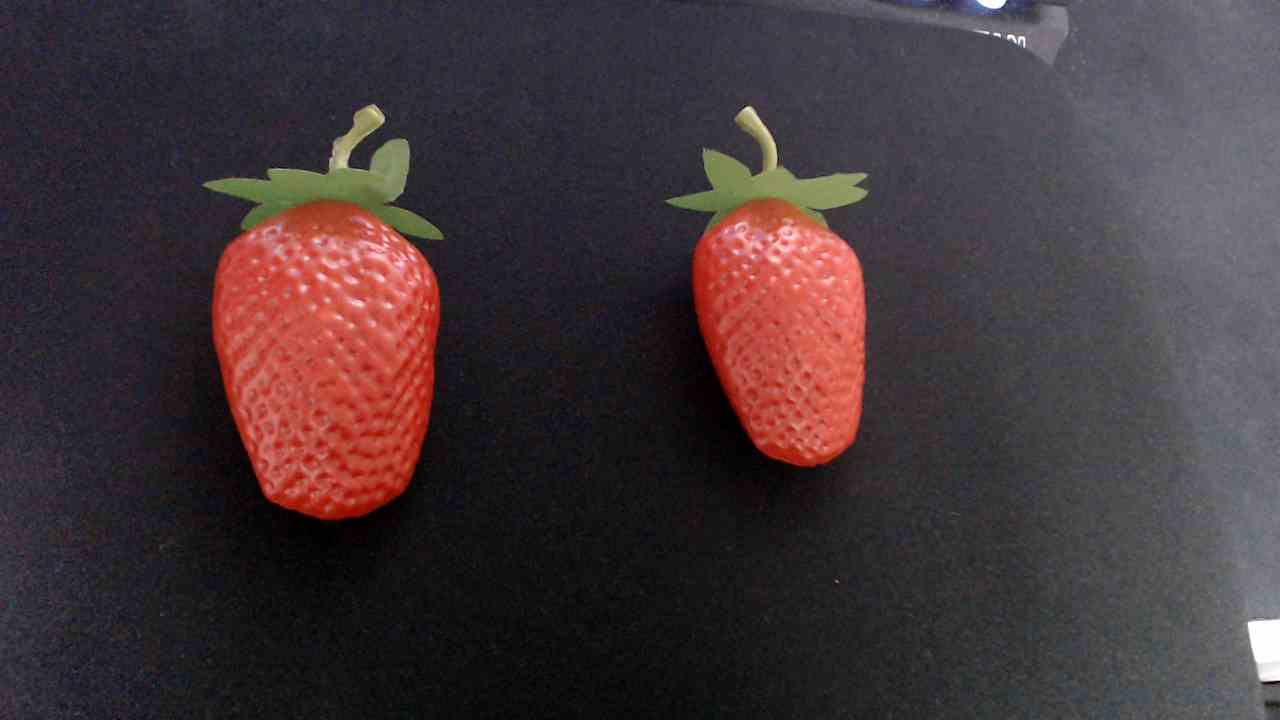strawberry: (193, 174, 451, 530), (680, 157, 876, 474)
